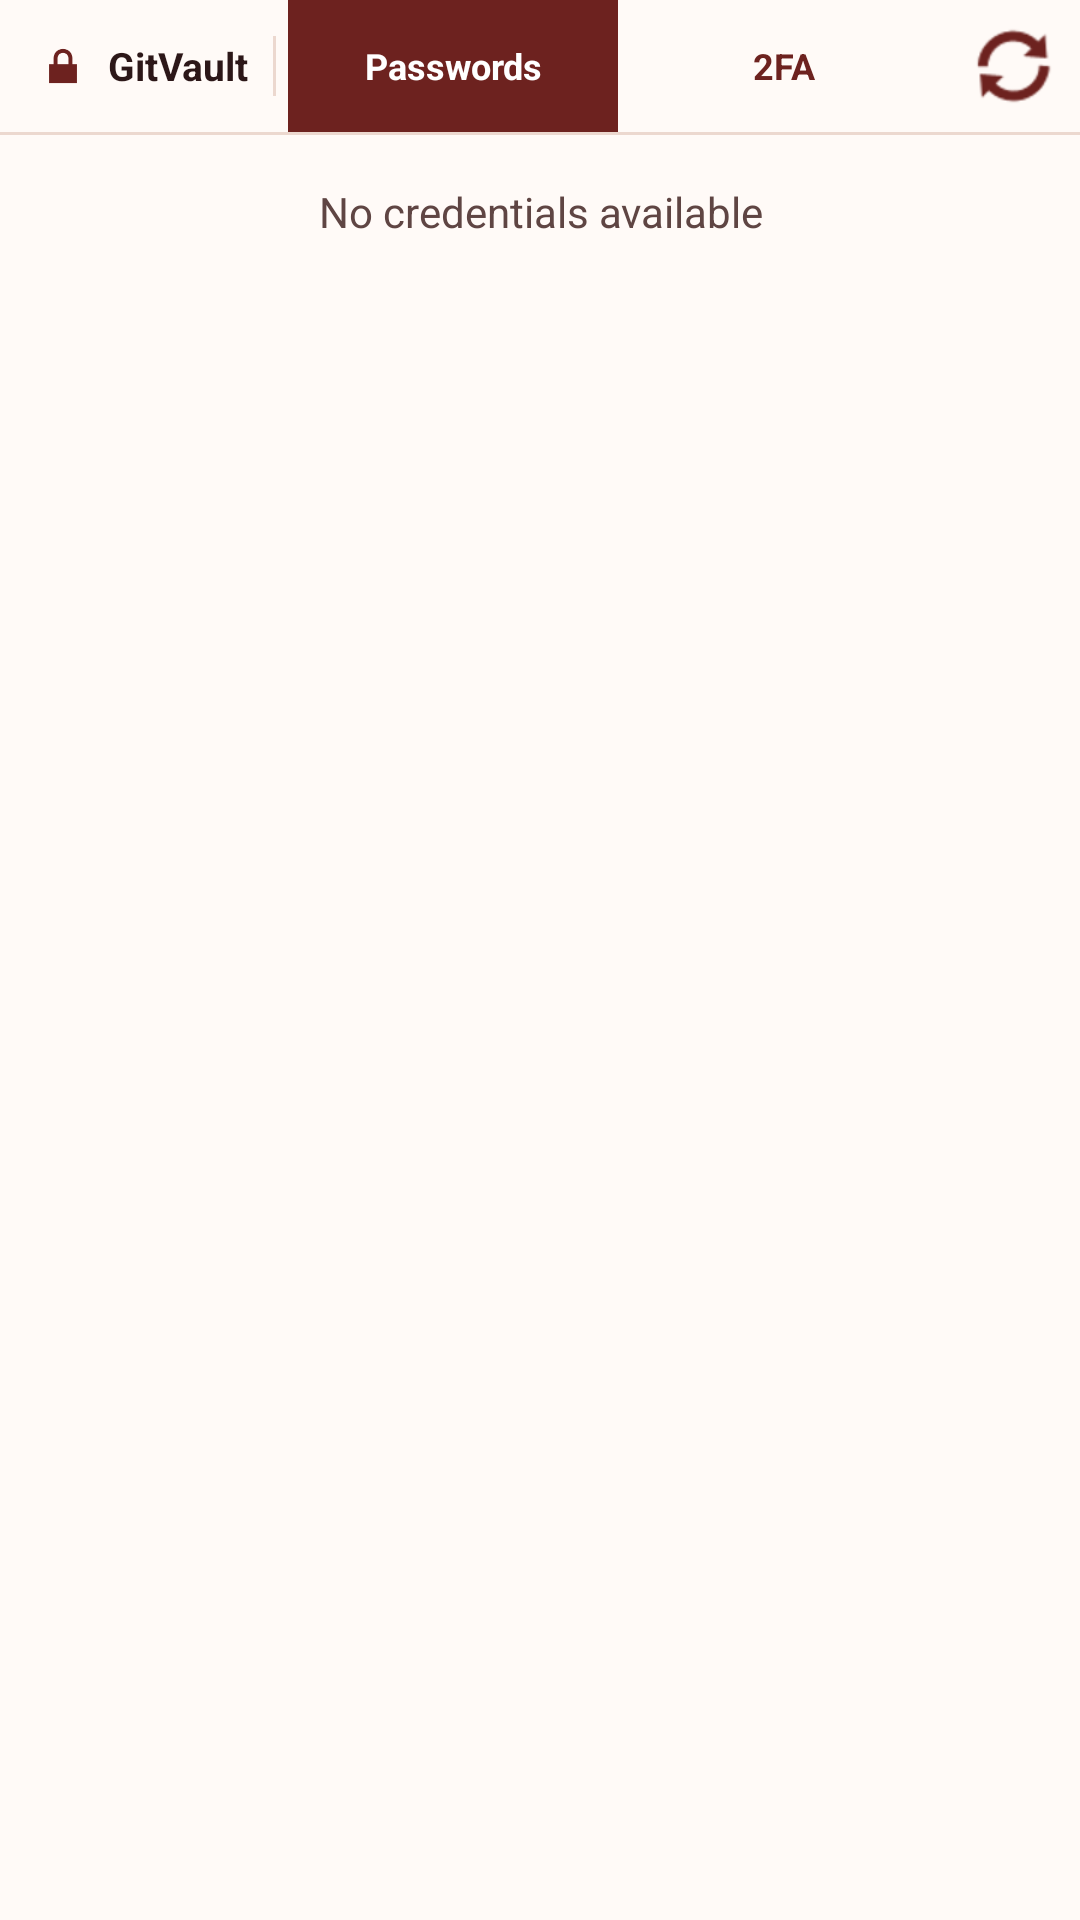

Named icons in this screenshot (1080 × 1920) and their centers, (x=x, y=y):
Lock icon: (x=63, y=66)
Reload: (x=1014, y=66)
